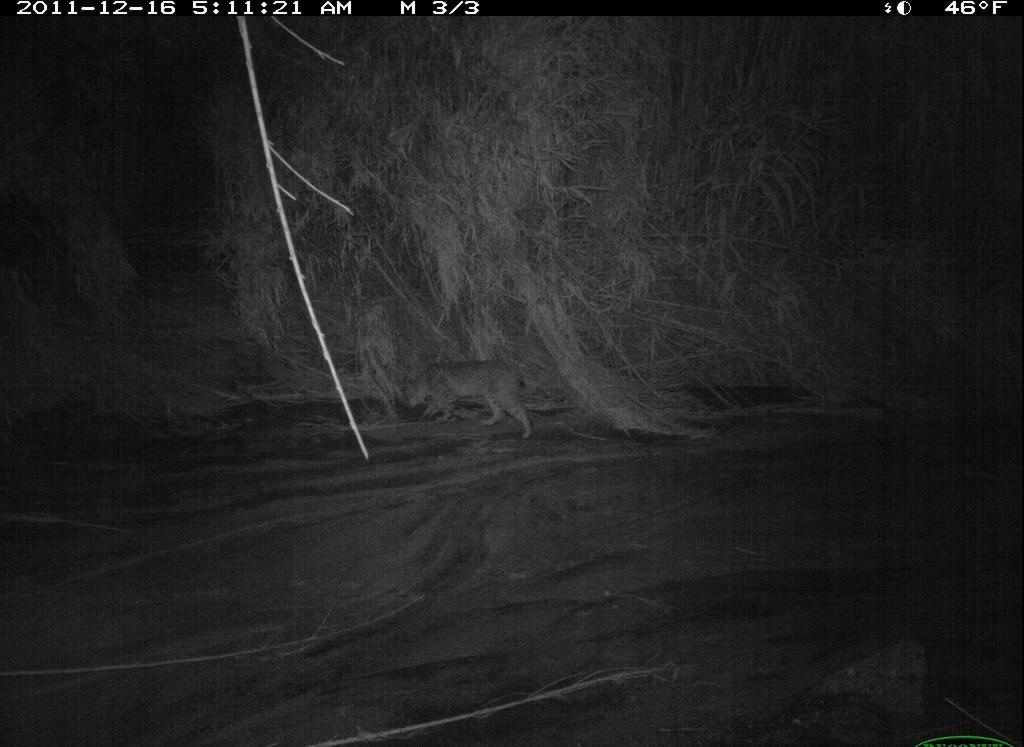bobcat: (392, 353, 547, 445)
